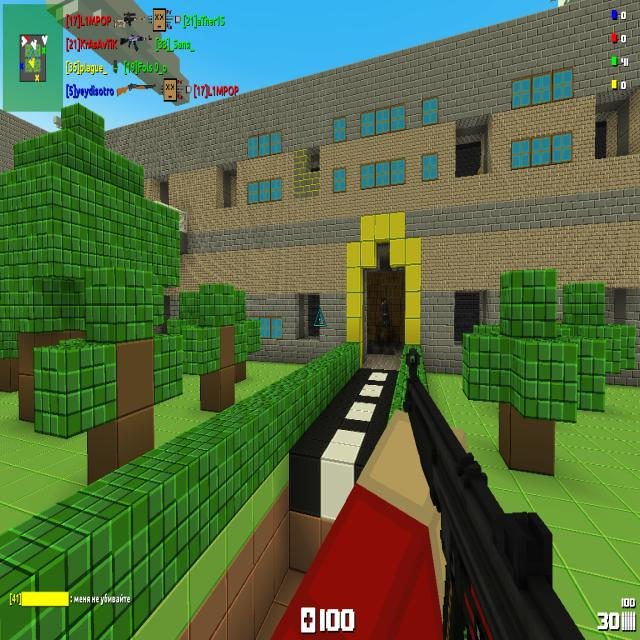enemy: (380, 297, 390, 328)
